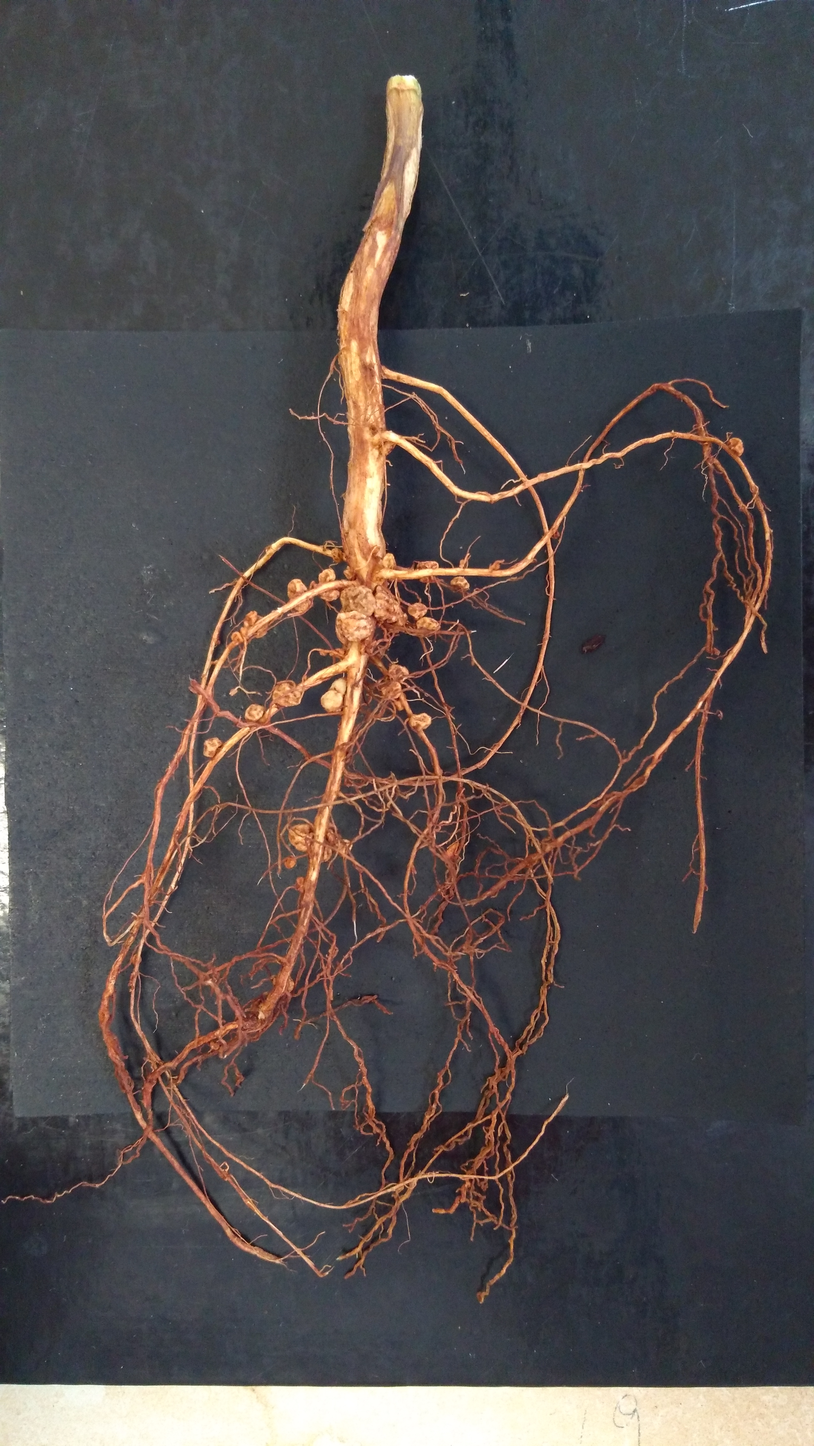nodule: (335, 610, 374, 645), (339, 584, 375, 619), (287, 578, 312, 611), (373, 585, 395, 622), (272, 681, 303, 707), (287, 823, 313, 851), (318, 568, 340, 601), (244, 611, 268, 638), (319, 690, 344, 714), (272, 971, 295, 993), (408, 712, 432, 733), (417, 561, 439, 583), (388, 662, 409, 683), (202, 736, 222, 758), (244, 703, 264, 723), (328, 676, 348, 696), (381, 681, 402, 700), (416, 616, 441, 631), (406, 602, 428, 619), (387, 597, 401, 623), (369, 643, 386, 663), (336, 837, 353, 857), (449, 575, 469, 592), (728, 437, 744, 457), (393, 692, 409, 711), (326, 824, 340, 845), (380, 441, 397, 457), (231, 627, 245, 644), (382, 553, 396, 569), (397, 608, 408, 627), (446, 842, 458, 858), (294, 876, 305, 893), (284, 856, 297, 869), (329, 647, 345, 657), (332, 548, 343, 562), (323, 845, 332, 862), (131, 953, 142, 966), (343, 566, 353, 580), (524, 859, 537, 868), (209, 1040, 220, 1050), (458, 559, 468, 569), (542, 843, 551, 854), (749, 485, 759, 494), (550, 530, 559, 540), (229, 688, 238, 697), (738, 504, 747, 512), (319, 648, 327, 656), (493, 562, 500, 571)
